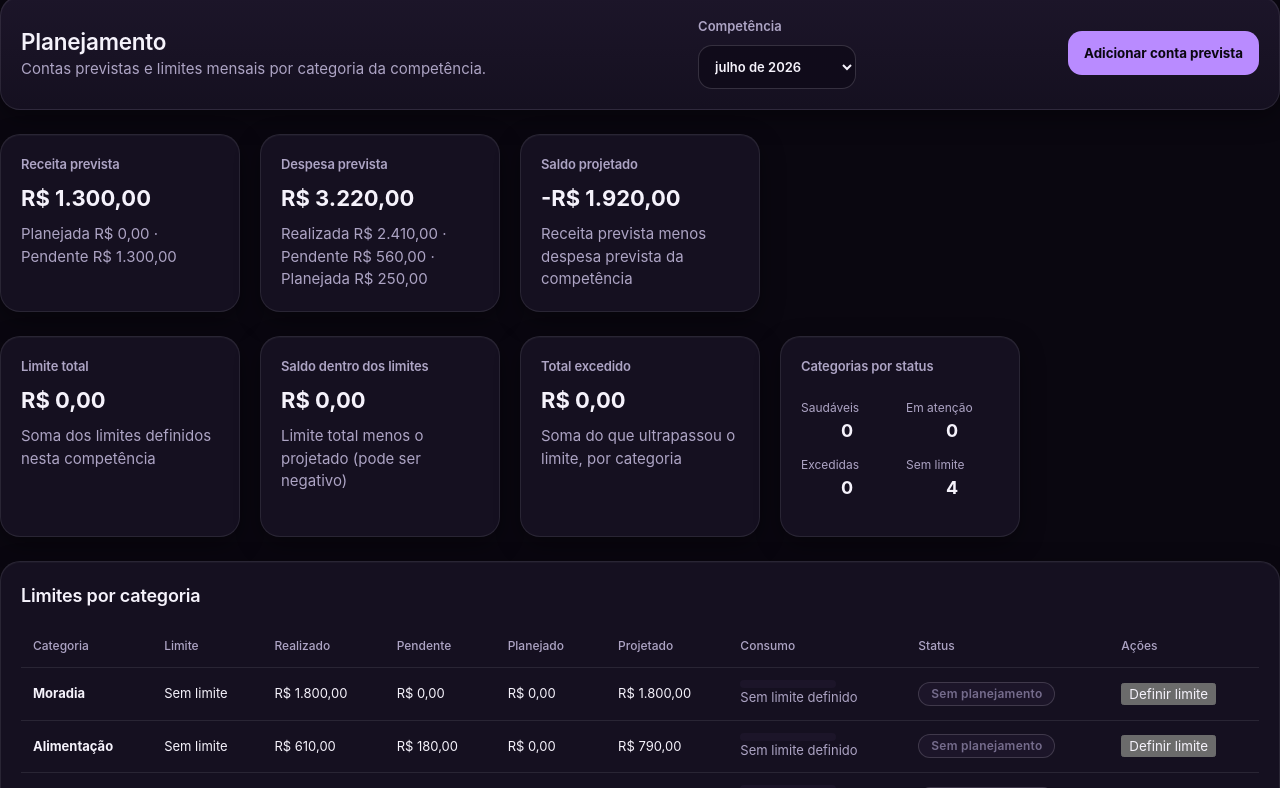
PlanningPage › cria uma conta prevista através do formulário reaproveitado de Movimentações
Click the button "Adicionar conta prevista" at (1164, 53), box [1068, 31, 1259, 75]
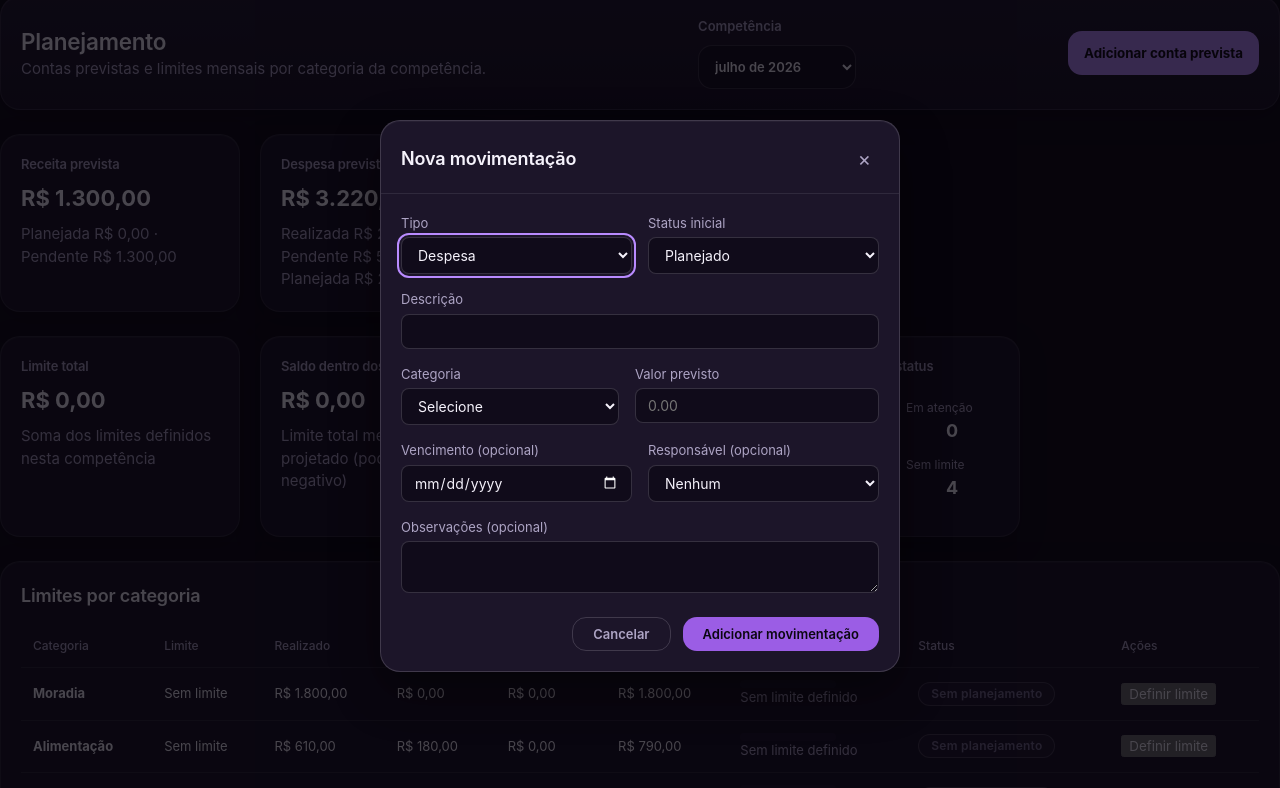
Type "Internet de agosto" into the field labelled "Descrição" at (640, 331), box [401, 314, 879, 349]
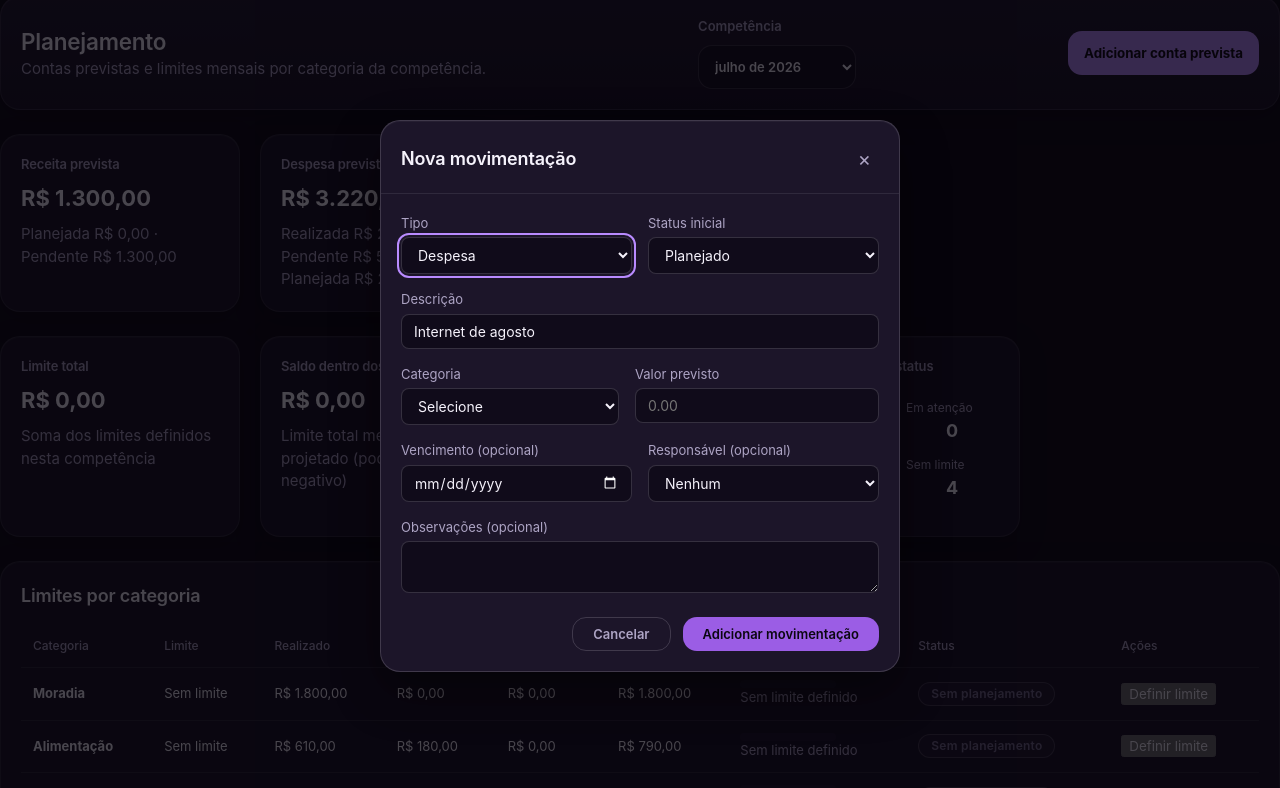
Select "Moradia" in the dropdown labelled "Categoria" at (510, 407), box [401, 388, 619, 425]
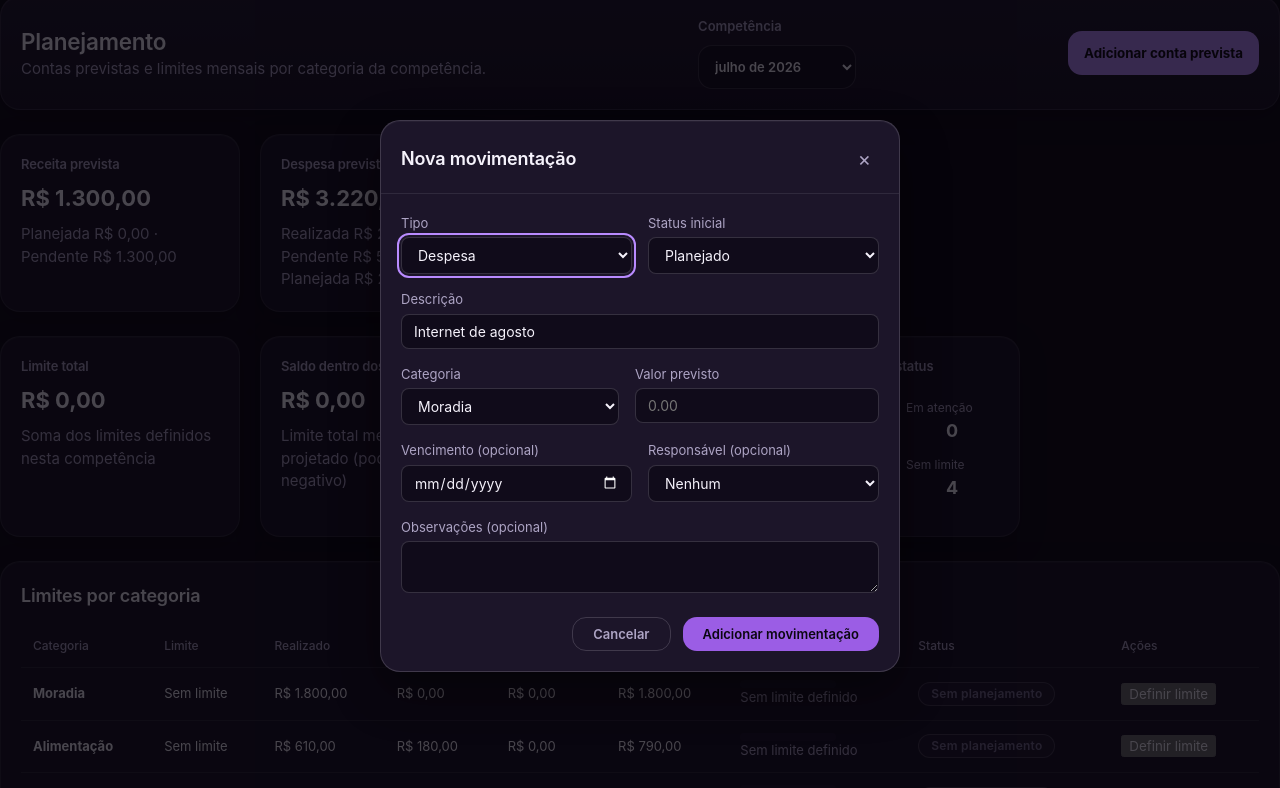
Type "120.00" into the field labelled "Valor previsto" at (757, 406), box [635, 388, 879, 423]
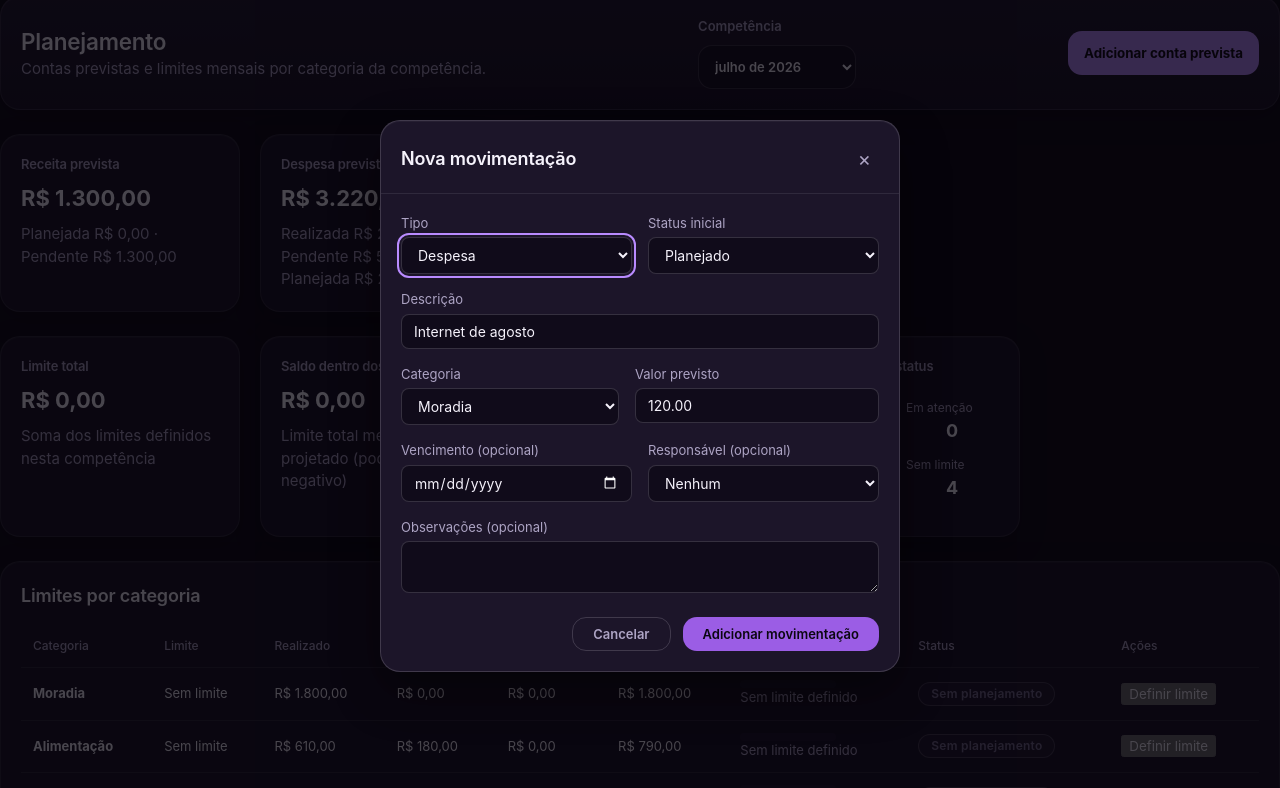
Click the button "Adicionar movimentação" at (781, 634), box [682, 617, 879, 651]
(page scrolled)
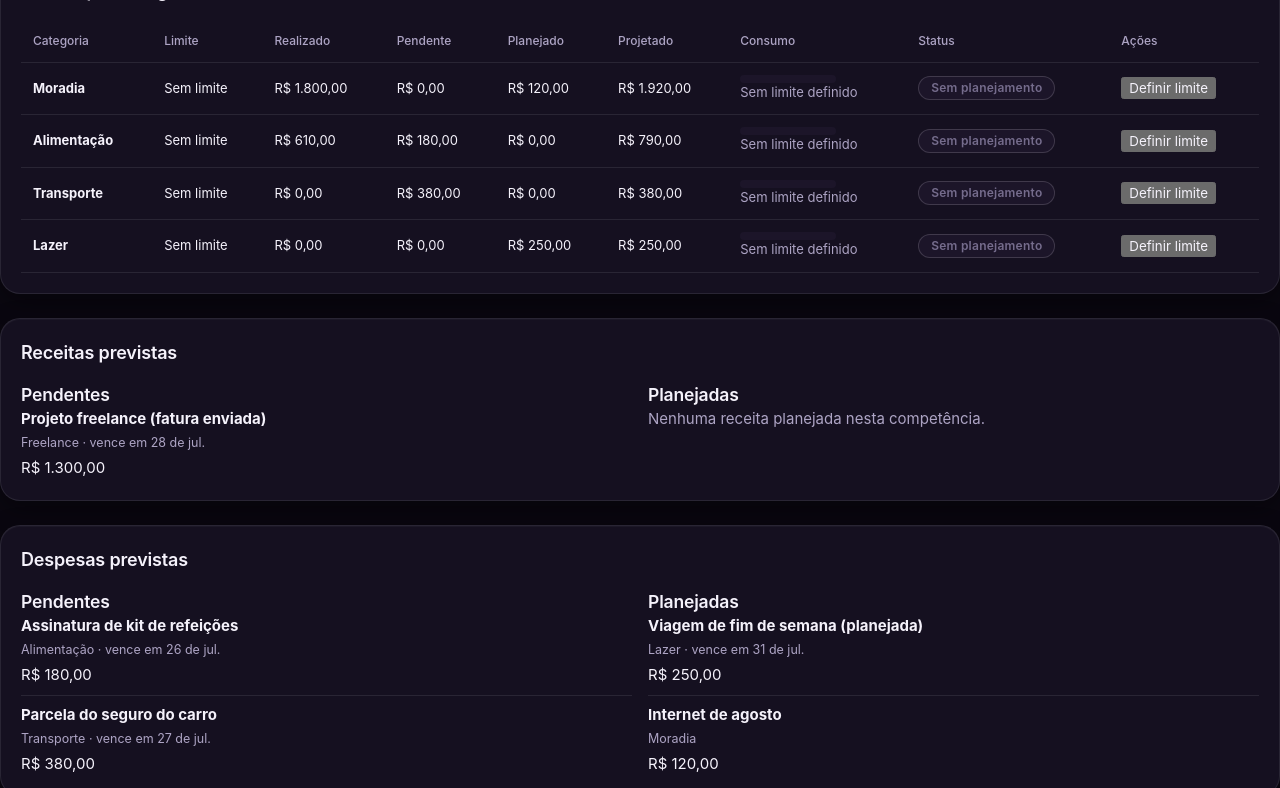
Check: the dialog is gone
Check: the text "Internet de agosto" is shown, box [648, 705, 782, 724]
